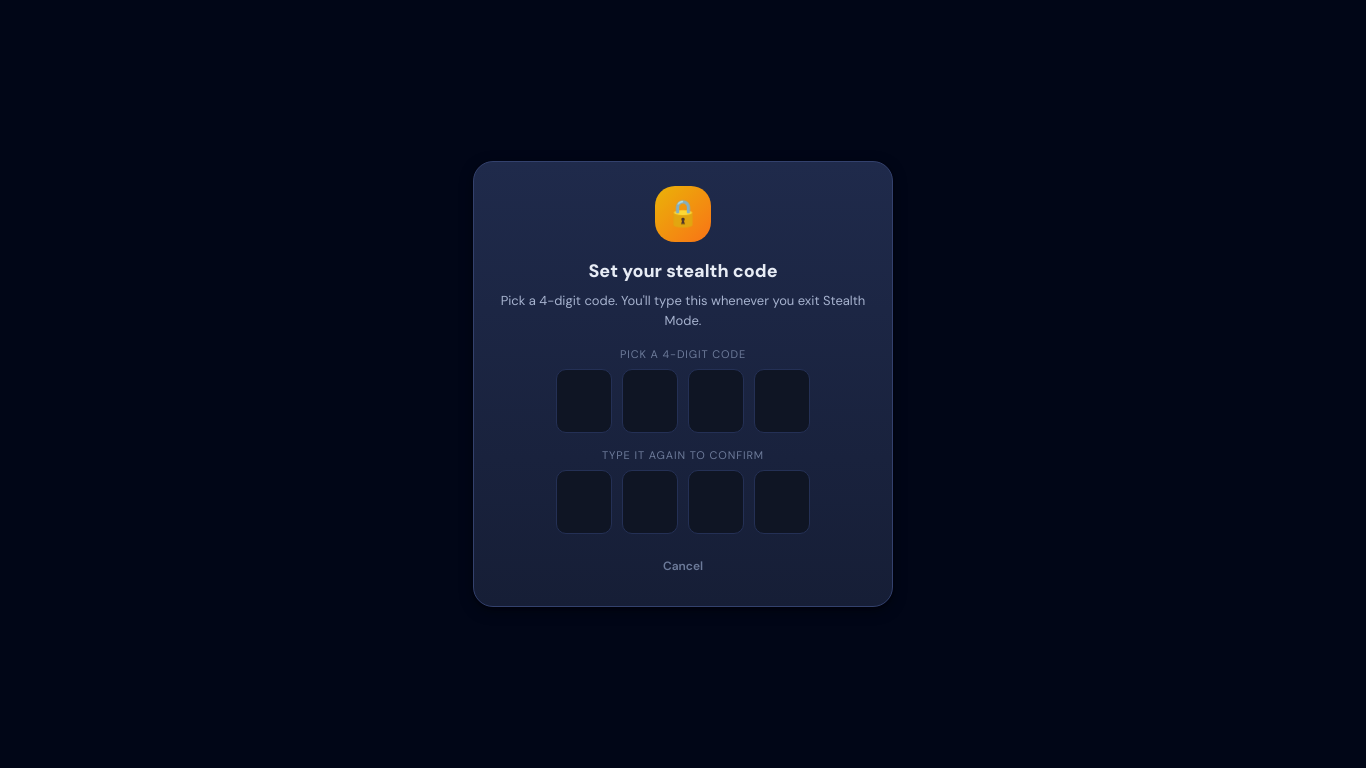
Test: PinEntryModal — set mode › mismatched confirm does NOT save
Type "1" into the 1st field named "PIN digit 1" at [584, 401], box [556,369,612,433]
Type "1" into the 1st field named "PIN digit 2" at [650, 401], box [622,369,678,433]
Type "1" into the 1st field named "PIN digit 3" at [716, 401], box [688,369,744,433]
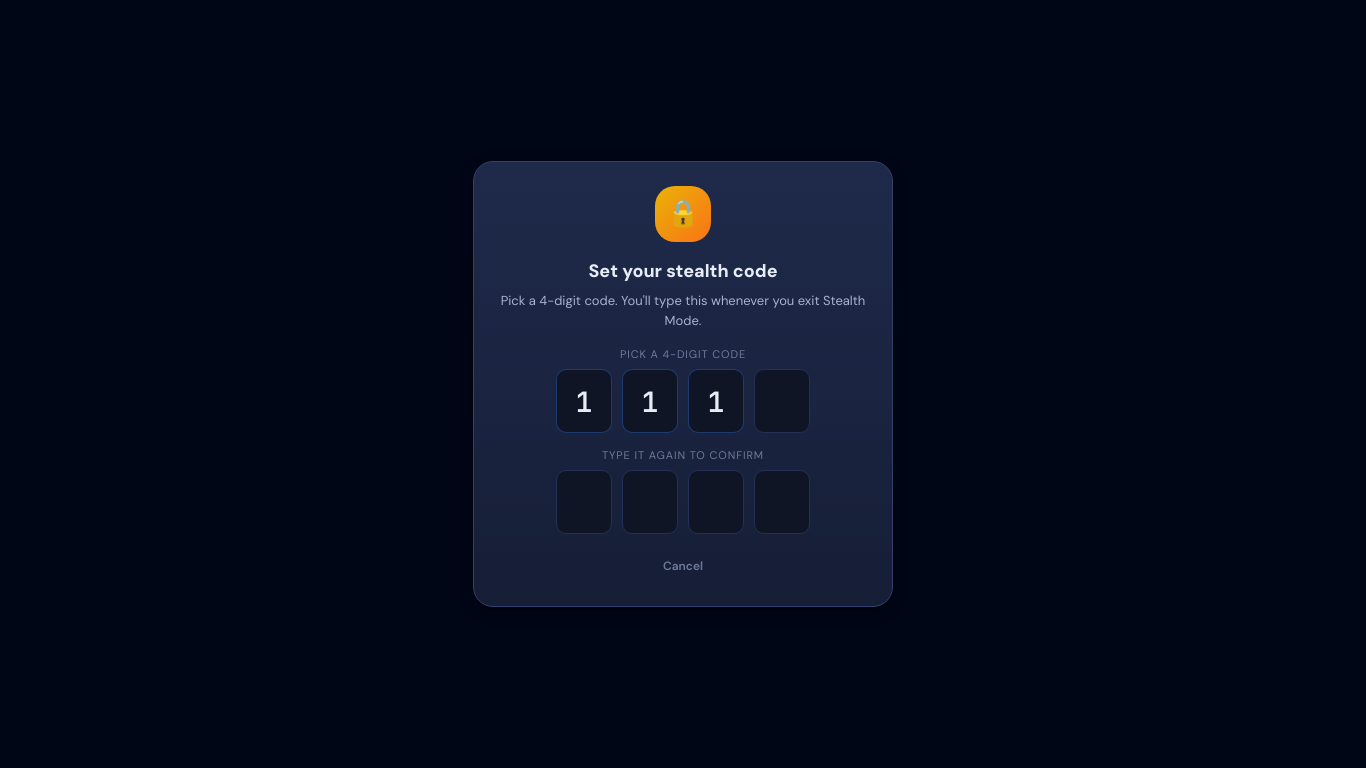
Type "1" into the 1st field named "PIN digit 4" at [782, 401], box [754,369,810,433]
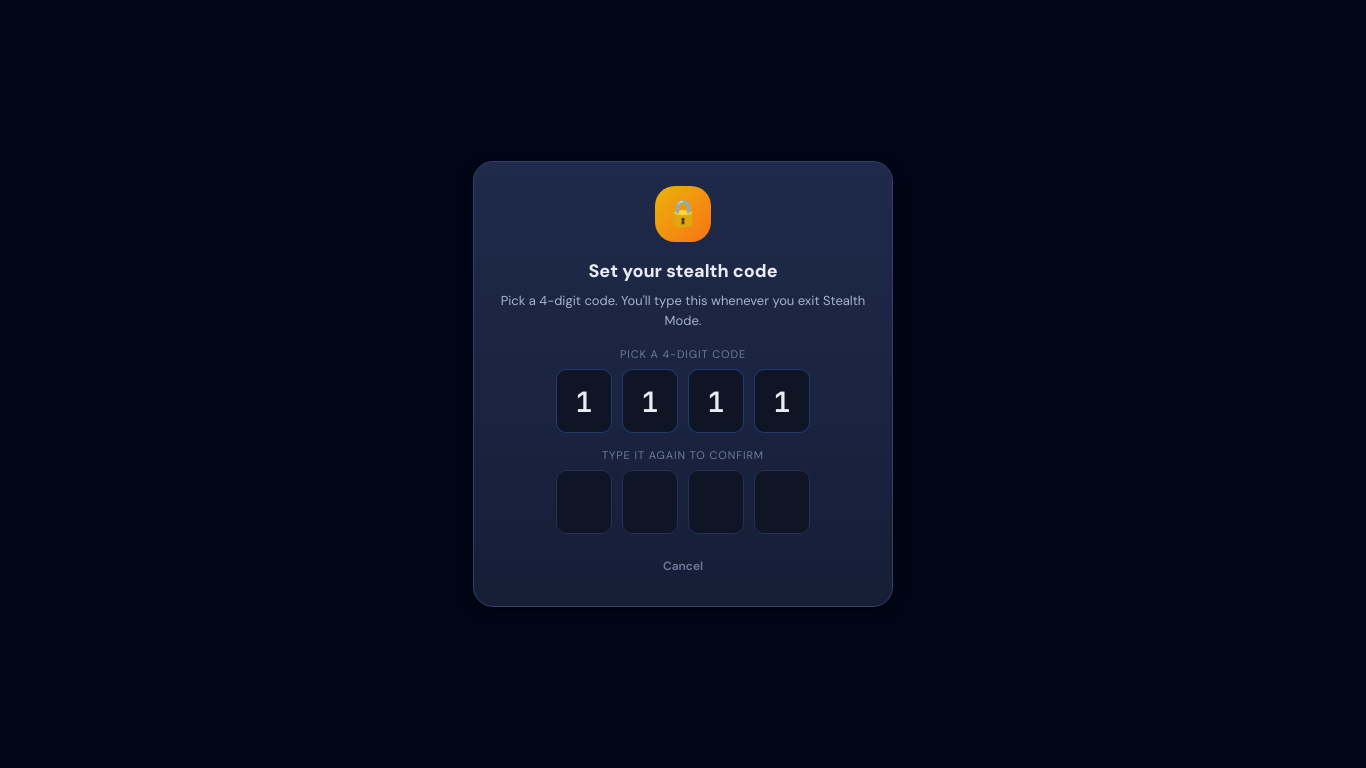
Type "2" into the field named "PIN digit 1" below "Type it again to confirm" at [584, 502], box [556,470,612,534]
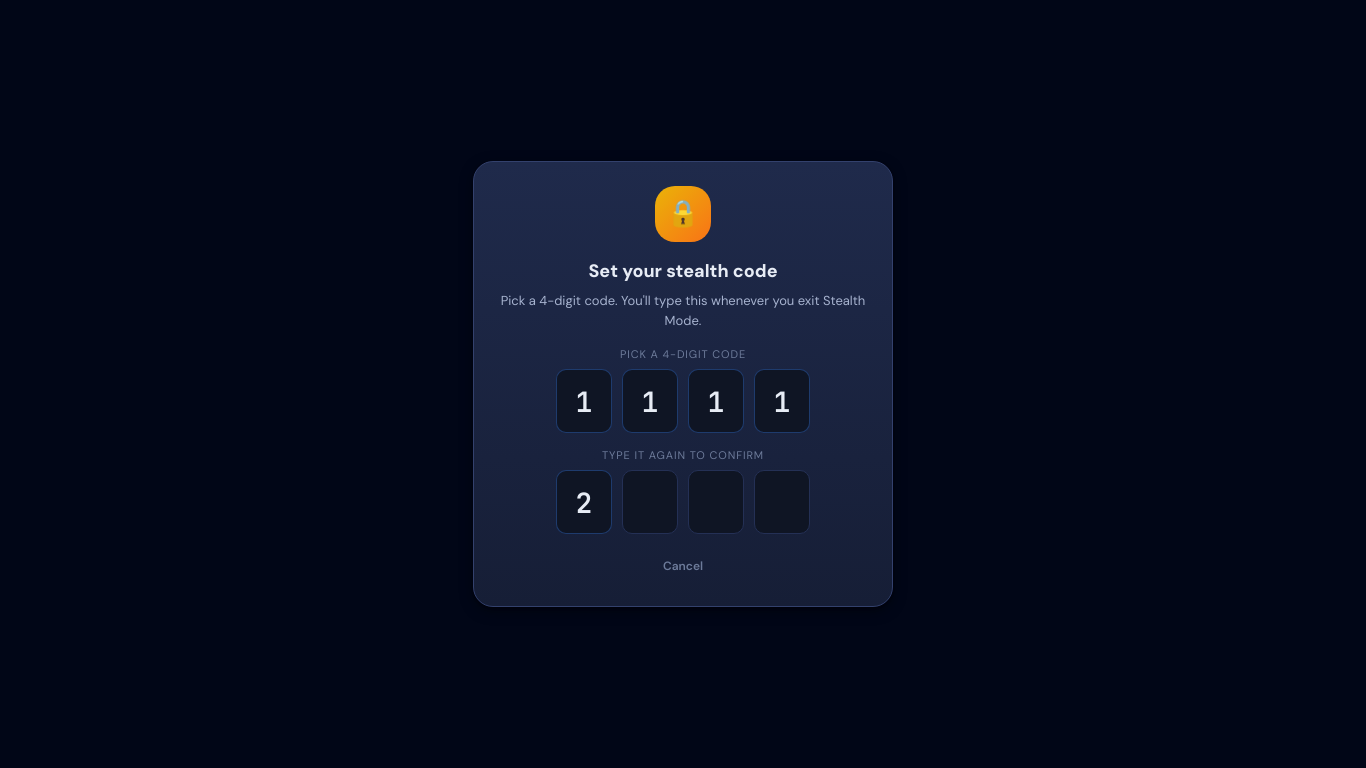
Type "2" into the field named "PIN digit 2" below "Type it again to confirm" at [650, 502], box [622,470,678,534]
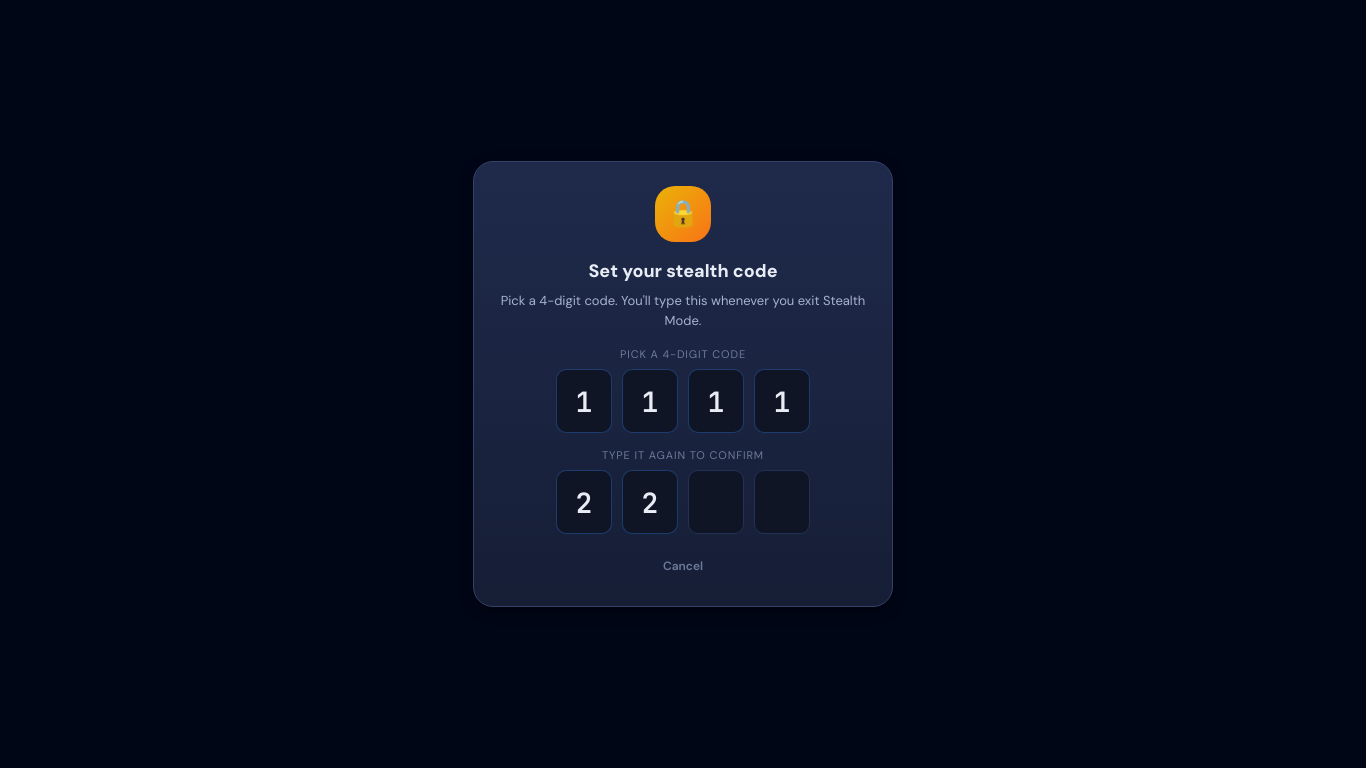
Type "2" into the field named "PIN digit 3" below "Type it again to confirm" at [716, 502], box [688,470,744,534]
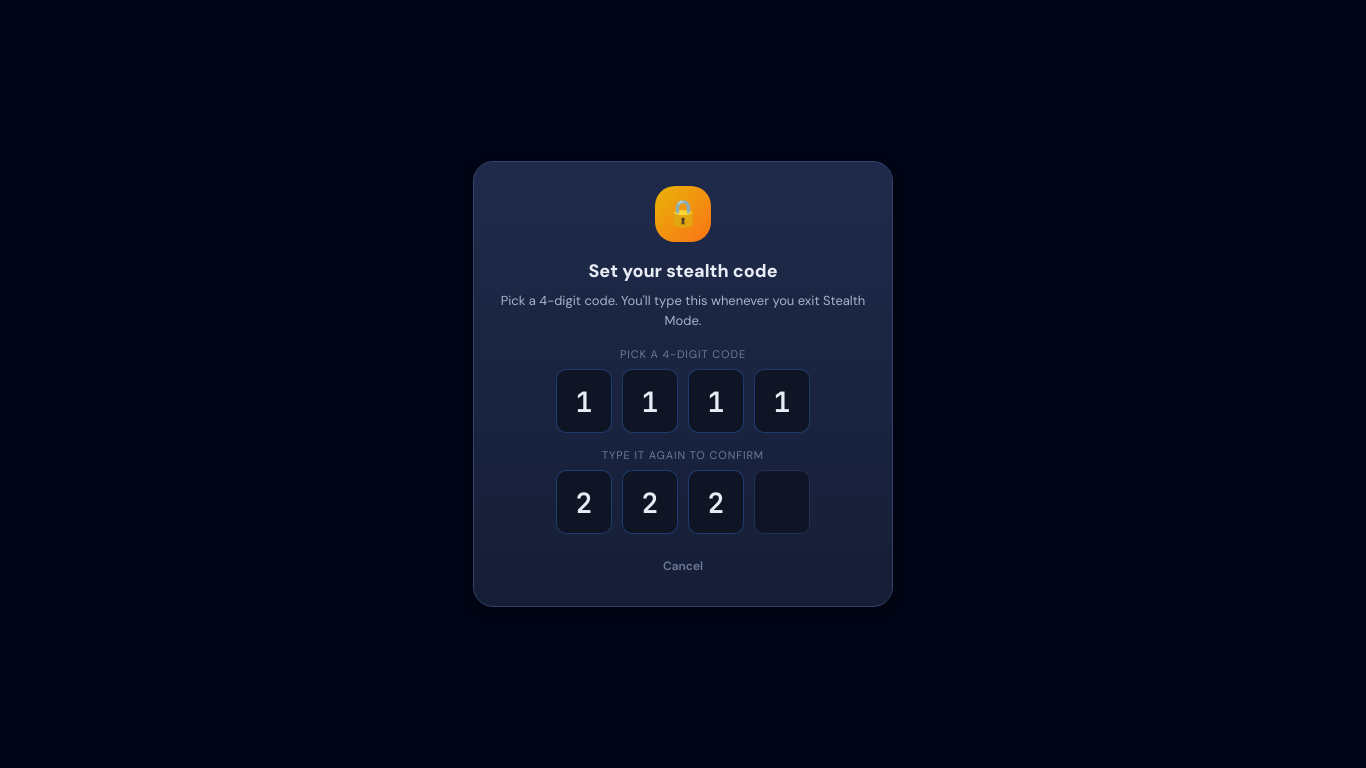
Type "2" into the field named "PIN digit 4" below "Type it again to confirm" at [782, 502], box [754,470,810,534]
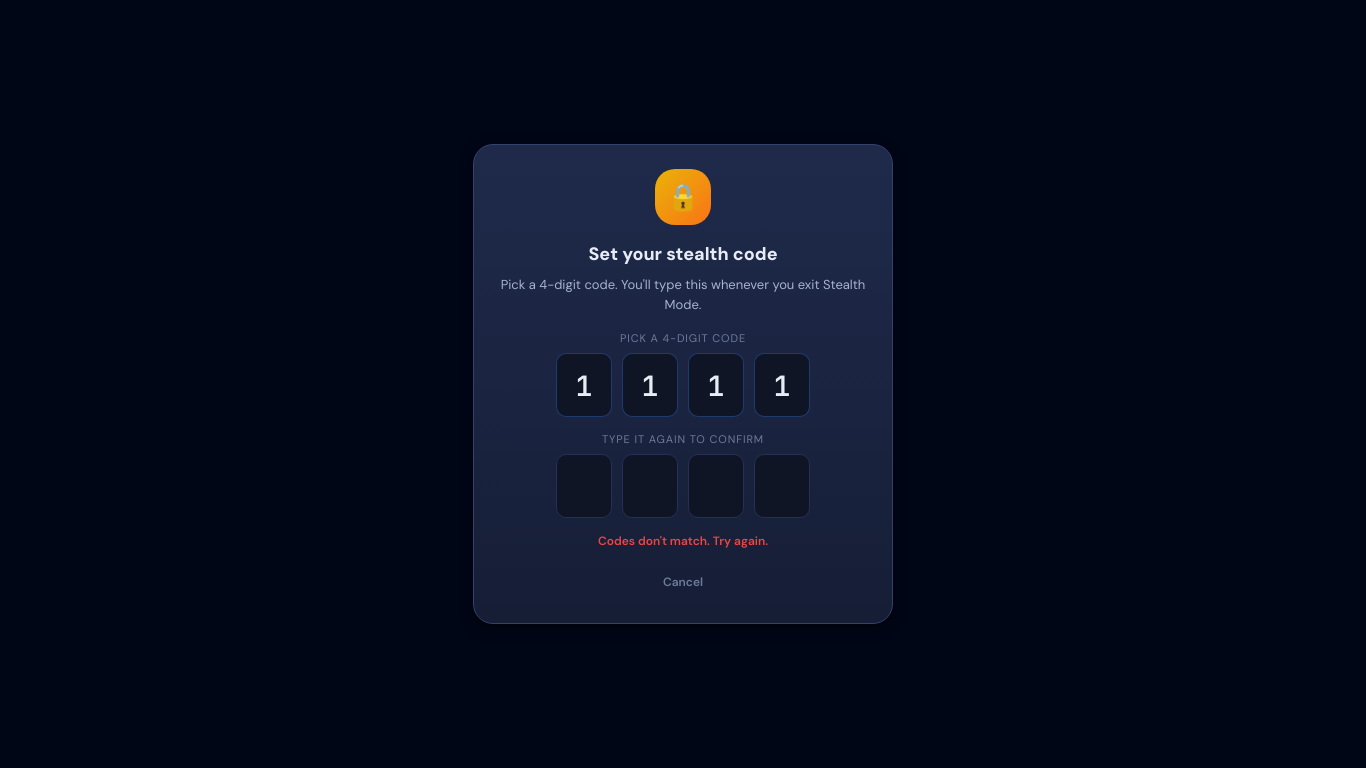
Now the message "Codes don't match. Try again." is shown, box [598,532,768,551]
